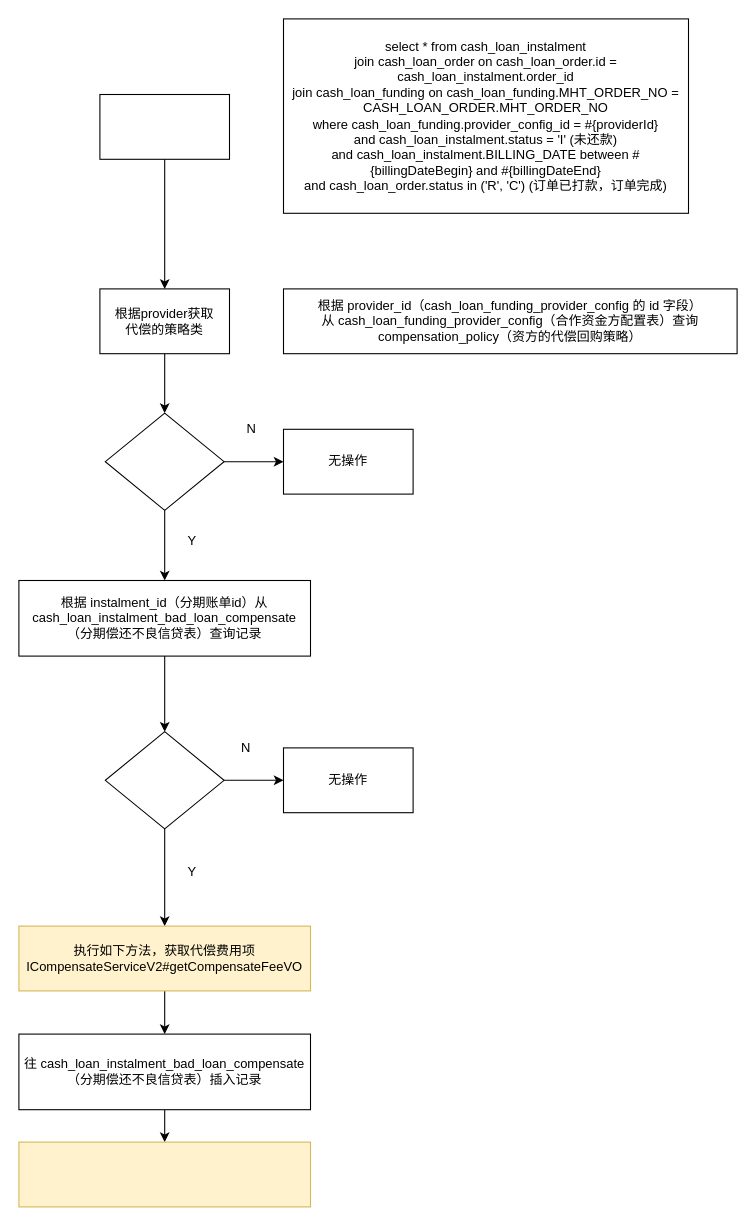
Some shapes in this 756 by 1226 pixel diagram are drawn without their labels. Here are the shapes that lost their labels. From the top down, the centre of each, then its label:
At (x=164, y=126): "获取需要代偿的 分期记录".
At (x=164, y=461): "判断是否满足 回购策略".
At (x=164, y=780): "判断记录是否为空".
At (x=164, y=1174): "执行如下回调方法 ICompensateServiceV2#callback".
